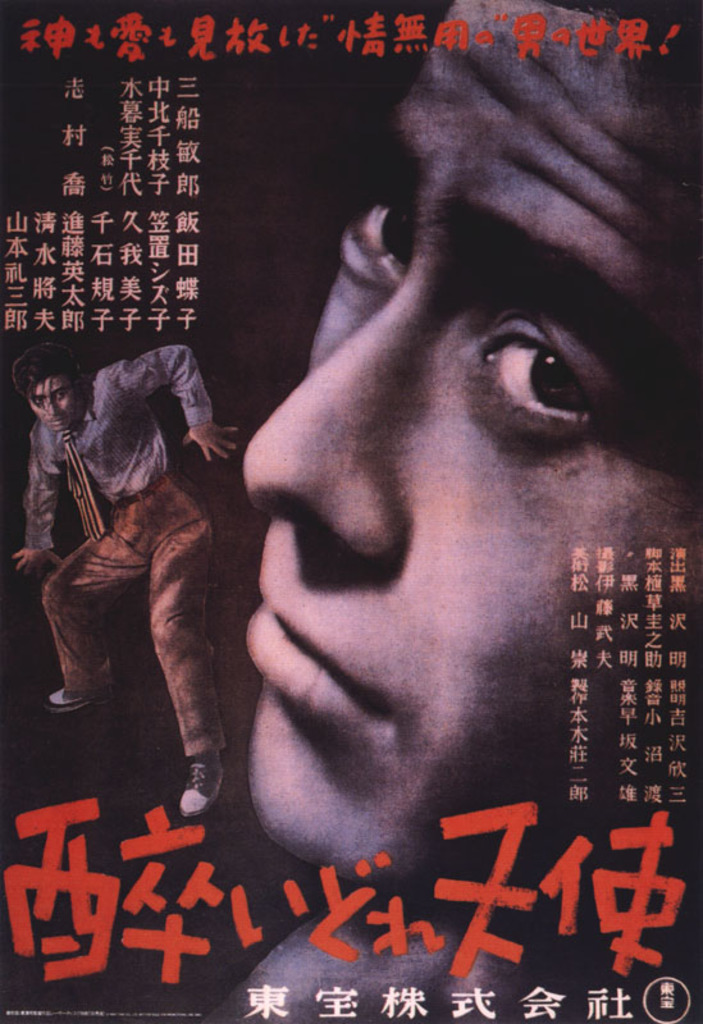Person: (10, 341, 237, 819)
